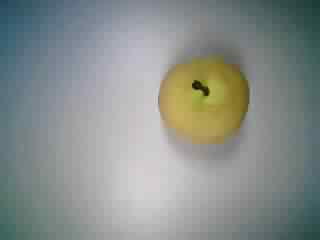pear: (149, 50, 258, 152)
